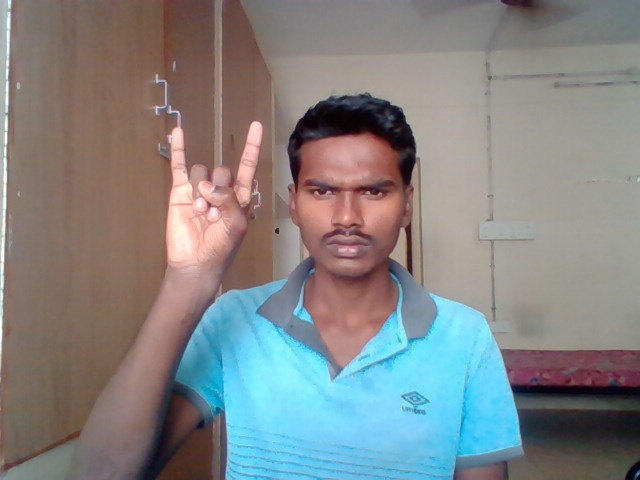I Love You: (164, 117, 265, 270)
